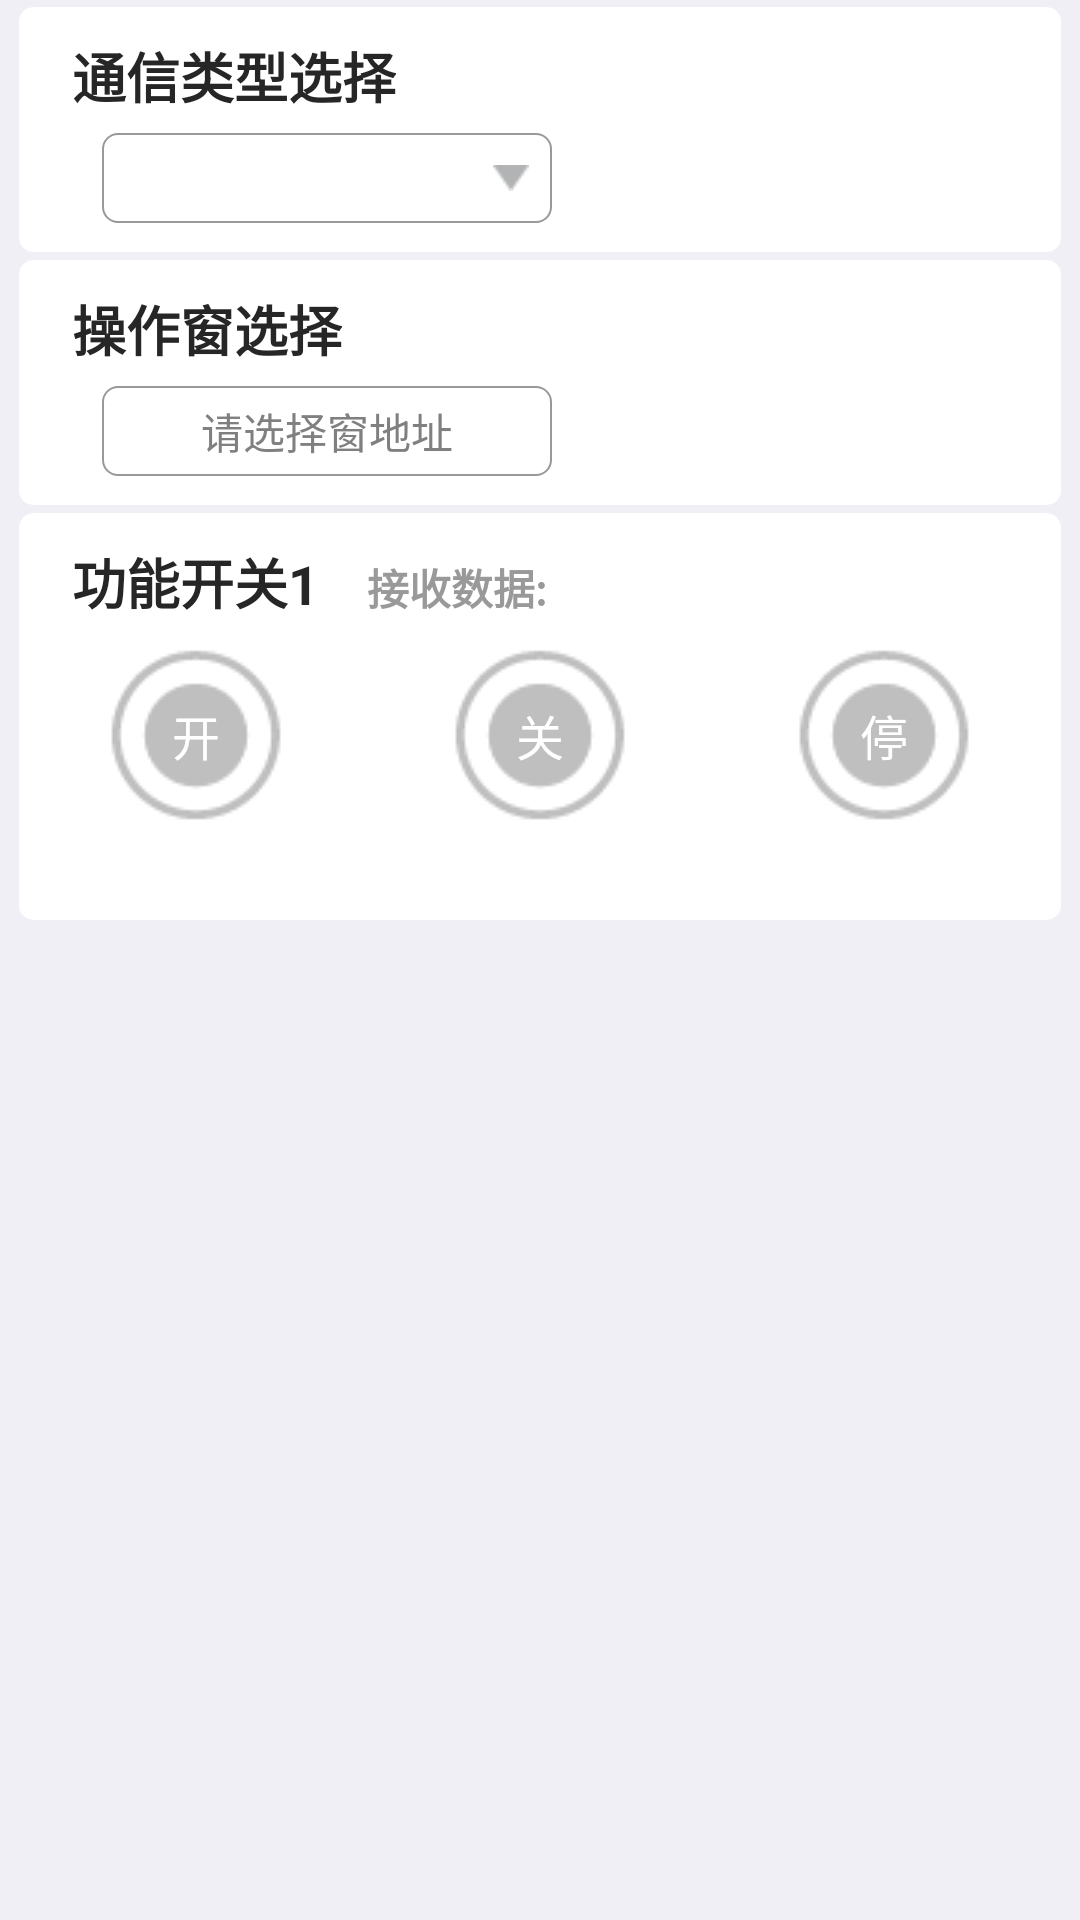

Icons on this 1080px×1920px Android screen, each with the point to tap as [x,y]:
down more: [511,178]
